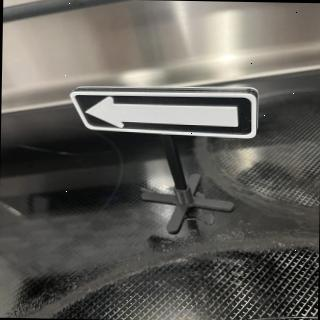sign_oneway_left: (70, 86, 259, 140)
